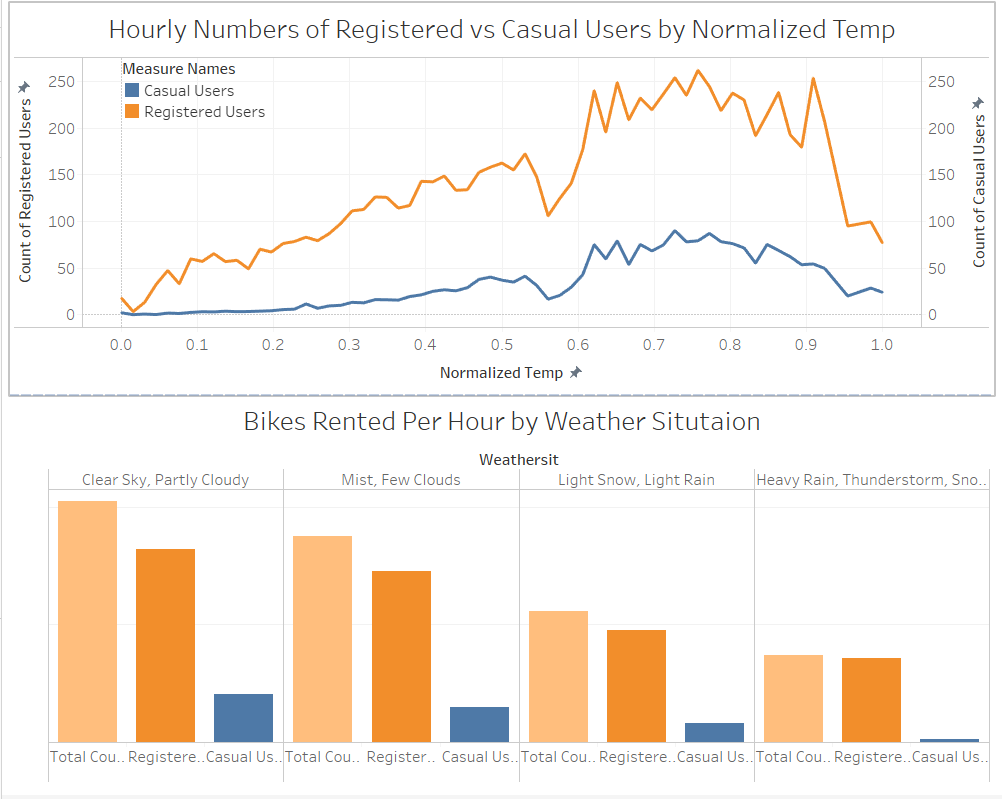

The dashboard page shown, as its layout file describes it:
{"tool":"tableau","page":{"name":"weather_Db1","canvas":[1000,800],"ordinal":3},"visuals":[{"type":"worksheet","title":"norm temp","mark":"Automatic","rows":["casual","registered"],"cols":["atemp"],"box":[8,8,984,392]},{"type":"legend","title":"norm temp","param":"[federated.11xe7du07rrtqo19muhl71nof9f6].[:Measure Names]","box":[120,63,149,64]},{"type":"worksheet","title":"bikes rented per hr","mark":"Automatic","cols":["weathersit"],"box":[8,400,984,392]}]}

Visuals, with their boxes in screenshot pixels (x1, y1, x2, y2), scaled from the page's 1000x800 canvas onto the 1002x799 screenshot:
"norm temp" worksheet: 8:8:994:400
"norm temp" legend: 120:63:270:127
"bikes rented per hr" worksheet: 8:400:994:791
